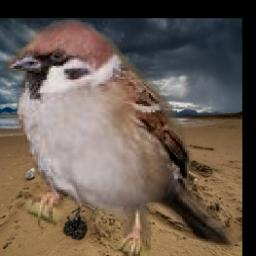Sparrow: (4, 19, 240, 256)
